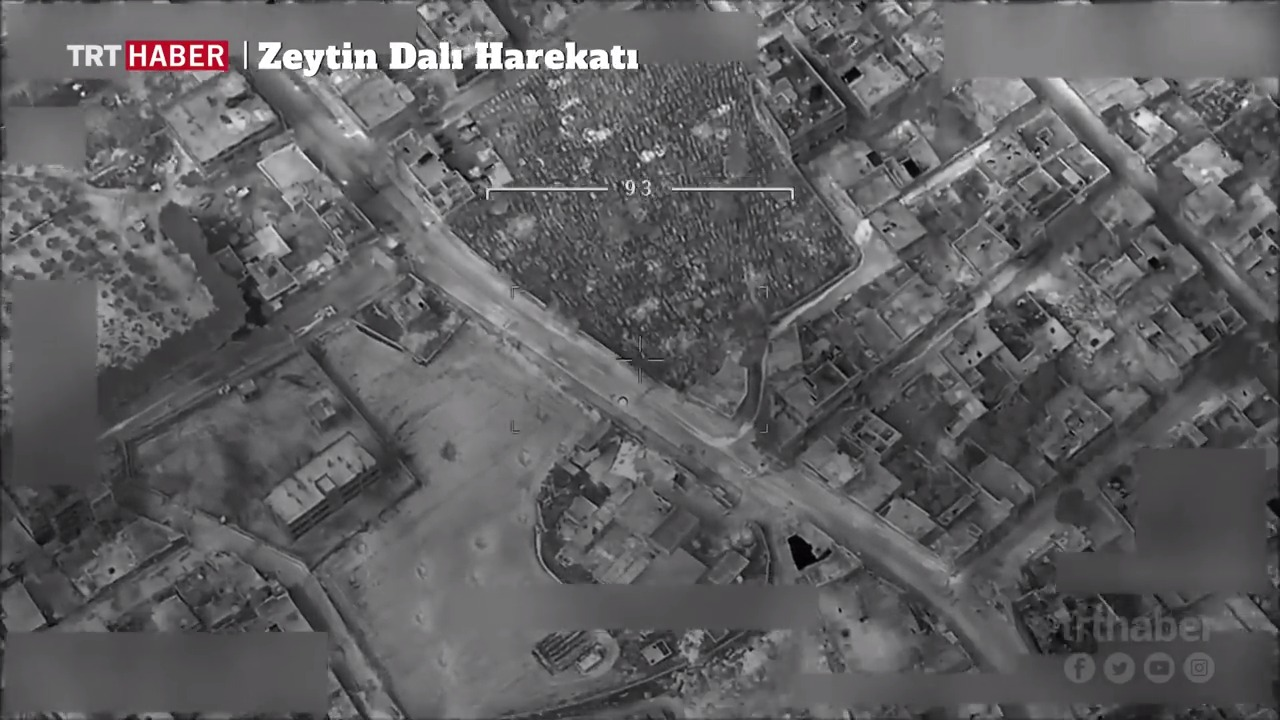bina: (253, 419, 376, 550)
